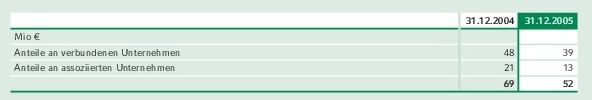table: (0, 0, 592, 100)
